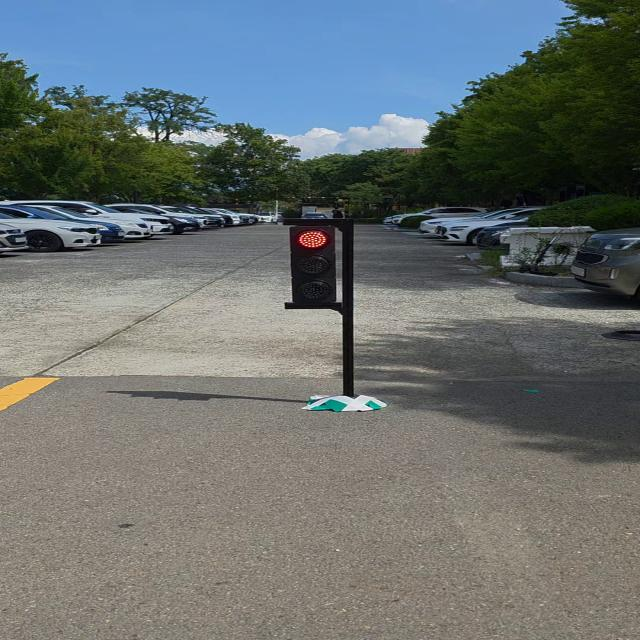red: (284, 219, 348, 309)
